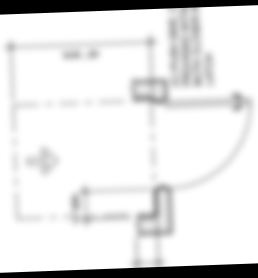door: (148, 92, 258, 190)
